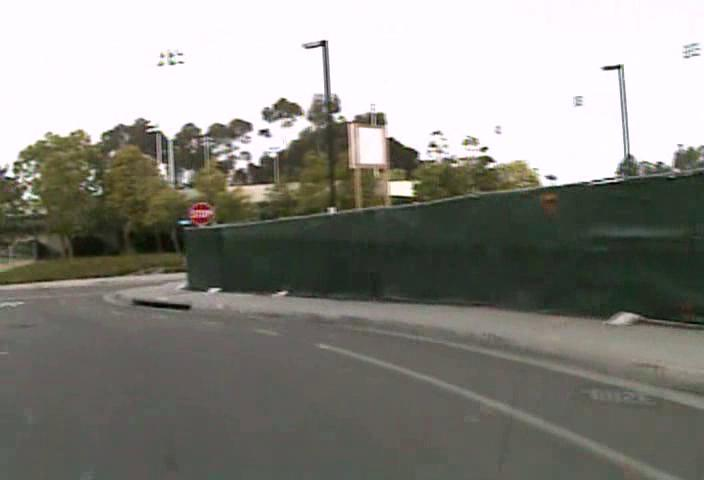stop: (189, 201, 214, 225)
